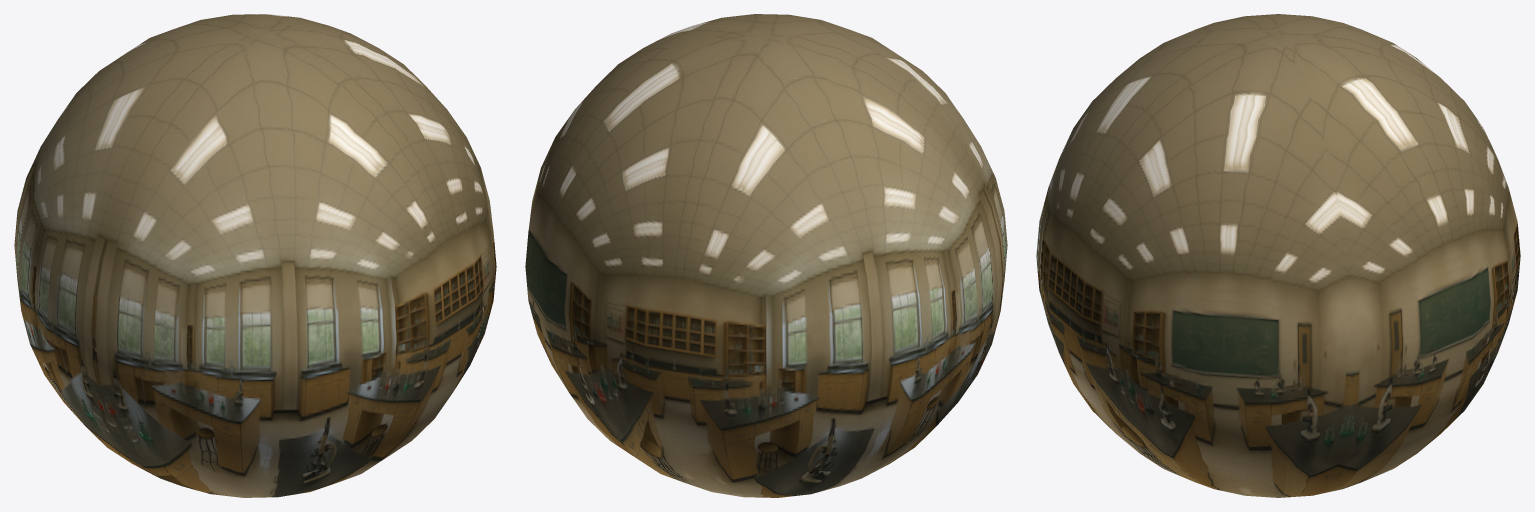
3 views of the same model, side by side, from view 1: azimuth 30°, elevation 25°; view 2: azimuth 150°, elevation 25°; view 3: azimuth 270°, elevation 25° (orthographic).
Visible parts, largest first — view 1: pSphere1; view 2: pSphere1; view 3: pSphere1.
Boxes of the visible parts, x1,y1,x2,y2 form: pSphere1: [14, 14, 496, 497]; pSphere1: [525, 14, 1007, 497]; pSphere1: [1036, 14, 1520, 497].
Bounding box in the file's own units: 820 × 820 × 820.
2 materials, 2 textured.
